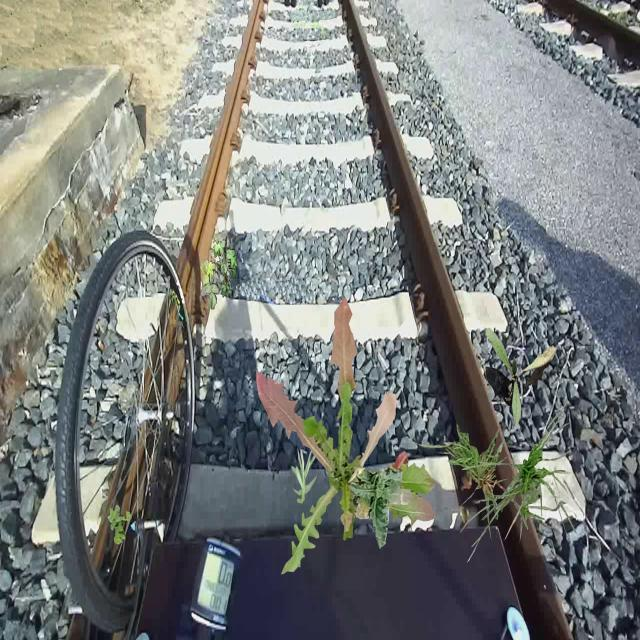Plant: (256, 297, 436, 575), (460, 400, 578, 564), (409, 421, 552, 540), (485, 328, 556, 428), (350, 468, 413, 551), (200, 236, 238, 310), (291, 448, 318, 504), (108, 504, 132, 545)
